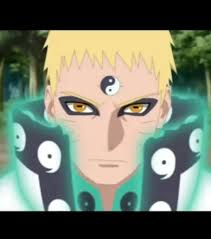Naruto: (44, 32, 174, 185)
